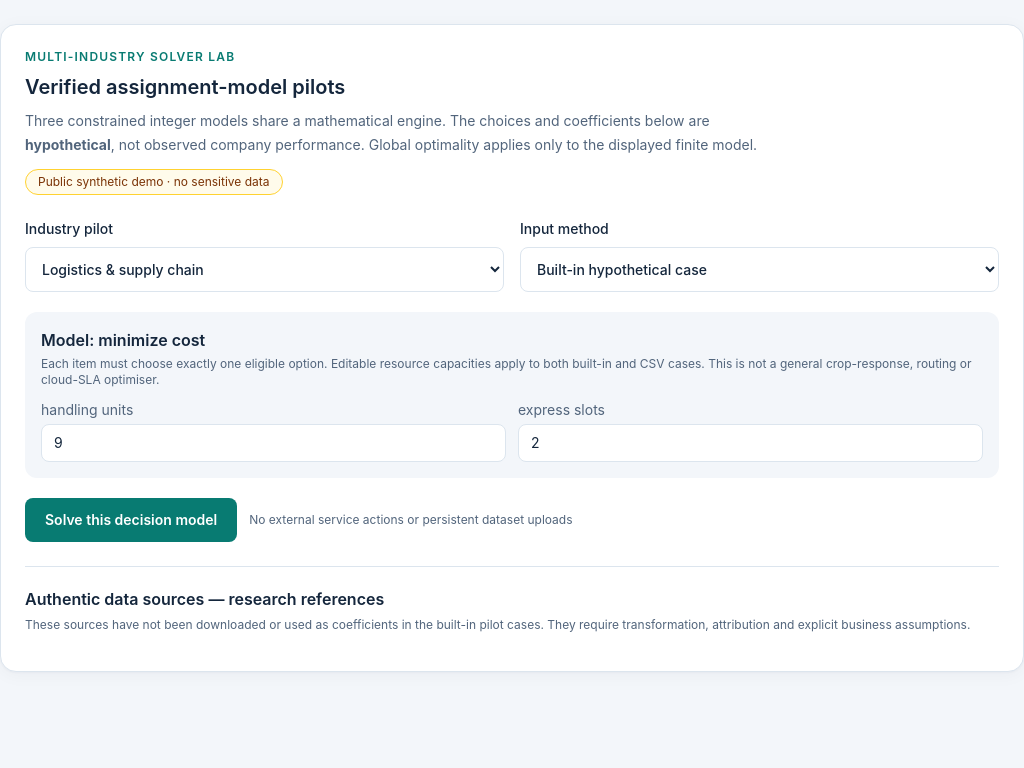
it: does not display a made-up optimum for infeasible constraints
Check: the text "Model: minimize cost" is shown, box [41, 330, 205, 350]
What coordinates should you click on to do the following:
click the button "Solve this decision model"
I would click on:
 (131, 520)
Its box is [25, 498, 237, 542].
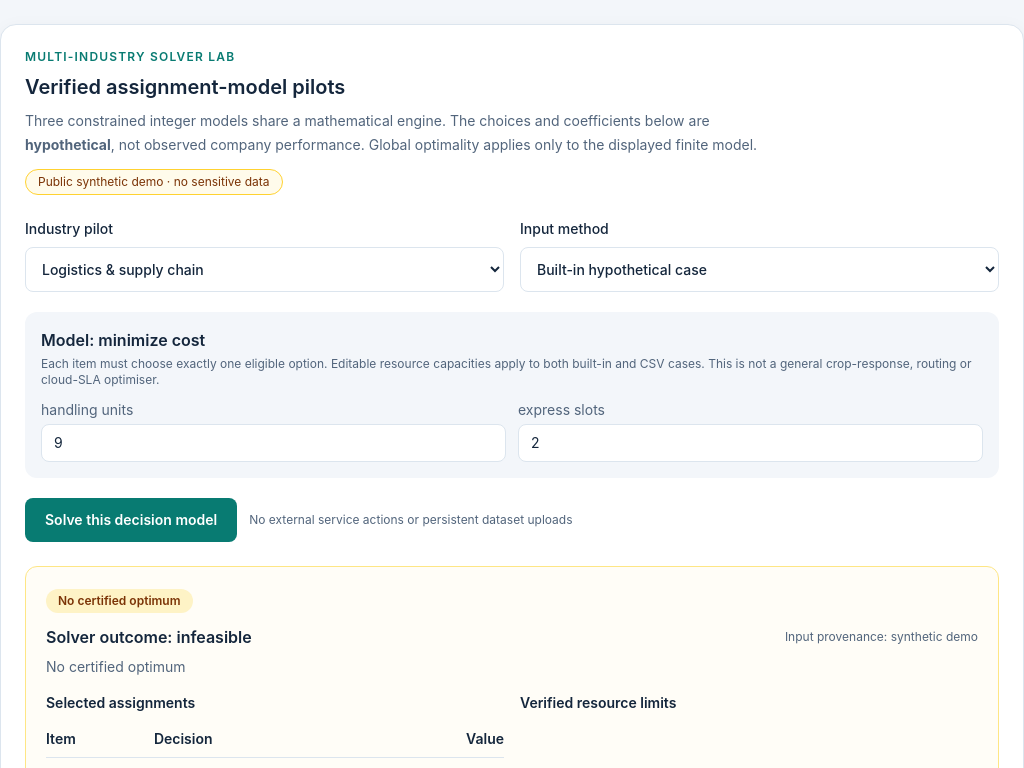
Check: the heading "Solver outcome: infeasible" is shown, box [46, 625, 252, 649]
Check: the 1st text "No certified optimum" is shown, box [46, 589, 192, 613]
